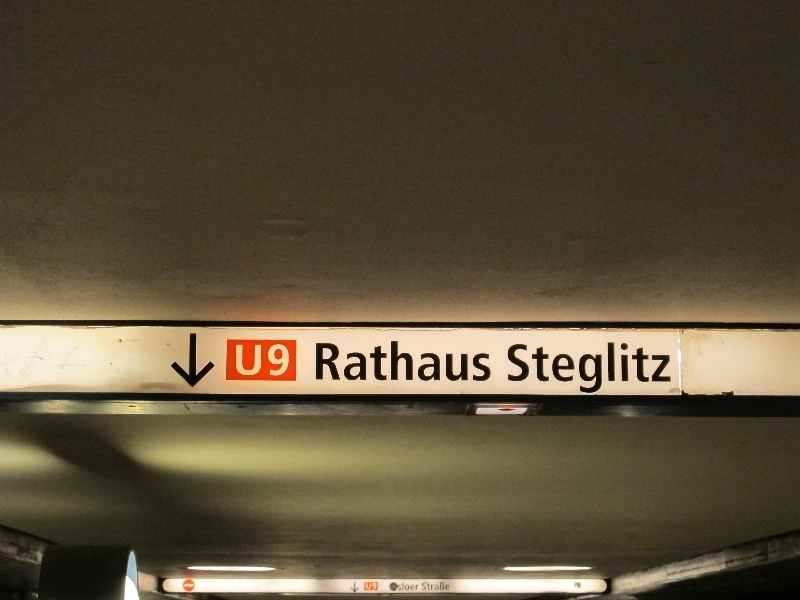text: (513, 340, 528, 396), (529, 340, 544, 396), (545, 340, 560, 396), (561, 340, 576, 396), (577, 340, 592, 396), (593, 340, 608, 396), (609, 340, 624, 396), (625, 340, 640, 396), (641, 340, 656, 396), (657, 340, 672, 396), (321, 339, 336, 387), (337, 339, 352, 387), (353, 339, 368, 387), (369, 339, 384, 387), (385, 339, 400, 387), (401, 339, 416, 387), (417, 339, 432, 387), (433, 339, 448, 387), (449, 339, 464, 387), (465, 339, 480, 387), (241, 340, 256, 381), (257, 340, 272, 381), (273, 340, 288, 381), (481, 339, 492, 387), (504, 340, 512, 396), (231, 340, 240, 381), (313, 339, 320, 387), (673, 340, 679, 396), (289, 340, 294, 381), (401, 582, 416, 592), (433, 582, 448, 592), (389, 582, 400, 592), (422, 582, 432, 592), (369, 582, 377, 591), (417, 582, 420, 592), (365, 582, 368, 591), (449, 582, 451, 592)
